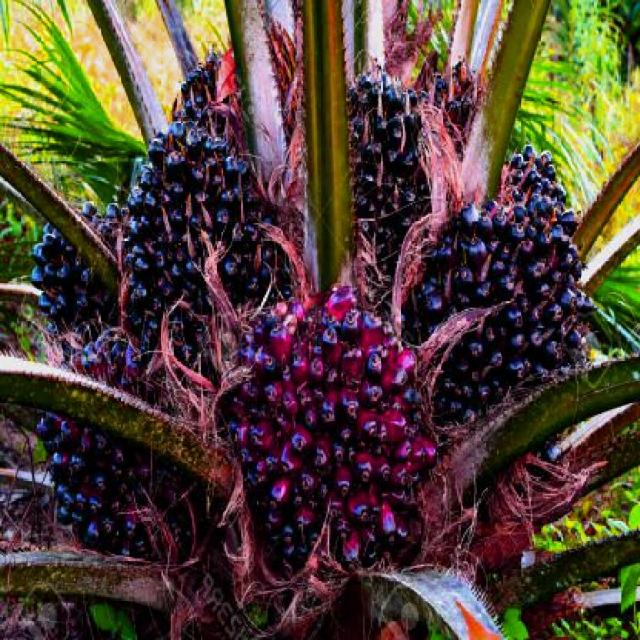palm-oil: (235, 284, 428, 577), (419, 176, 599, 432), (96, 123, 298, 334), (22, 388, 180, 565), (307, 34, 431, 256), (19, 186, 148, 370)
